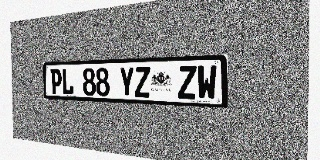8: (83, 68, 96, 96), (96, 68, 109, 96)
L: (62, 68, 74, 95)
P: (50, 69, 62, 95)
W: (197, 65, 217, 100)
Y: (119, 67, 134, 97)
Z: (178, 65, 196, 99), (134, 67, 150, 98)
